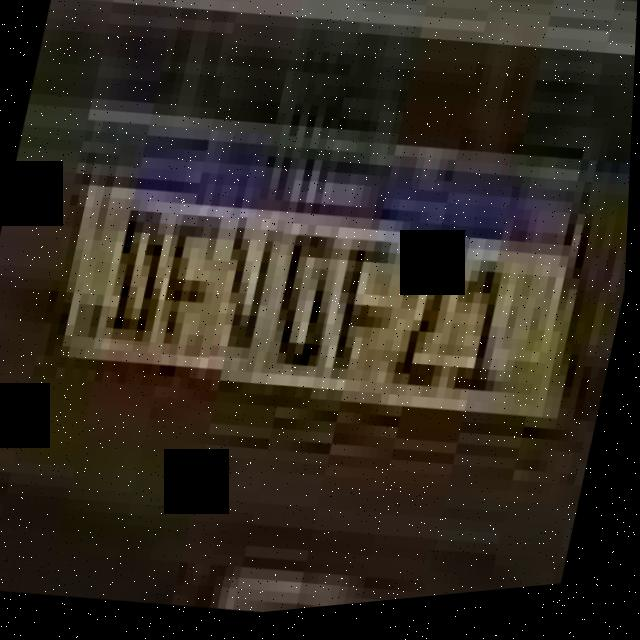0: (268, 238, 347, 382)
1: (445, 252, 521, 406)
D: (103, 198, 183, 353)
F: (153, 206, 238, 367), (338, 245, 408, 392)
V: (211, 213, 289, 373)
